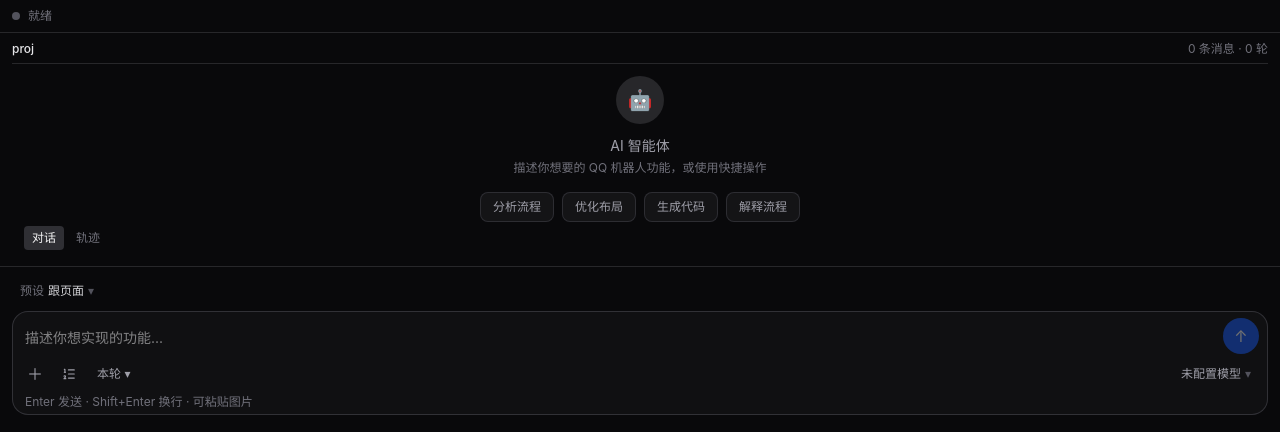
ChatPanel @ 文件引用 › 空格后 @ + 查询词会先过滤，且过滤词原样作为 query 传给主进程
Type "帮我看看 @mai" into the text box with placeholder "描述你想实现的功能..." at (618, 338), box [21, 320, 1215, 356]
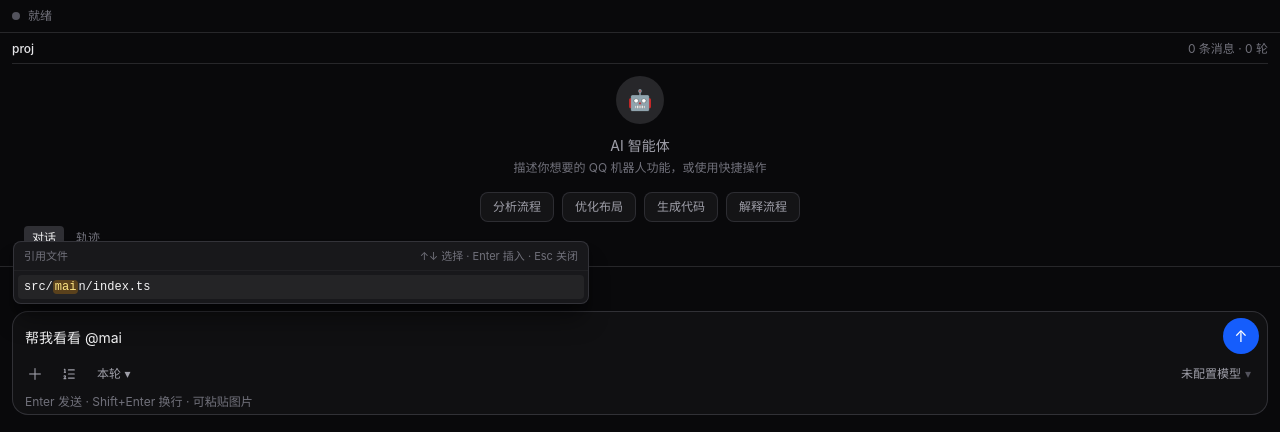
expect the option titled "src/main/index.ts" is shown: met, box [18, 275, 584, 299]
expect the text "mai" is shown: met, box [53, 280, 78, 294]
